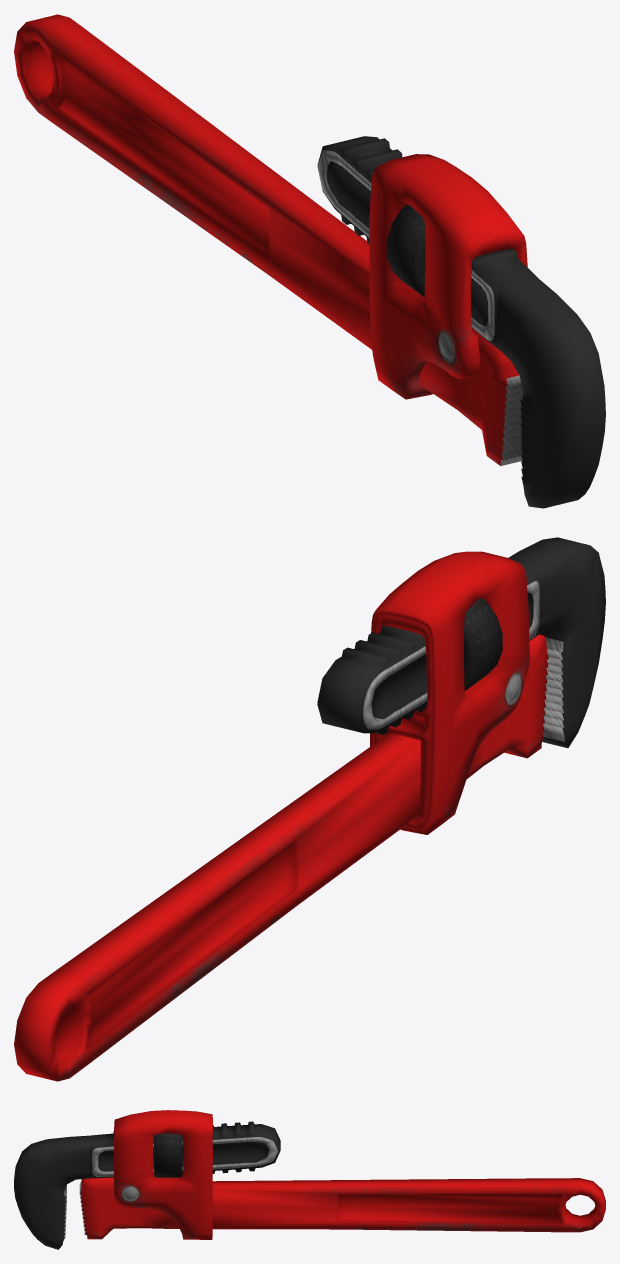
File: adjustable_wrench.glb
3 renders of one model, top to bottom at view 1: azimuth 30°, elevation 25°; view 2: azimuth 150°, elevation 25°; view 3: azimuth 270°, elevation 25°, orthographic. The views are drawn at different scales.
Parts seen in each view (by area): view 1: Plane.006; view 2: Plane.006; view 3: Plane.006.
Boxes of the visible parts, bbox=[...] form: Plane.006: bbox=[14, 14, 605, 508]; Plane.006: bbox=[14, 537, 605, 1081]; Plane.006: bbox=[14, 1110, 605, 1249].
Size of the model in its own units: 0.0614 by 0.1614 by 0.6611.
1 material, 1 textured.
